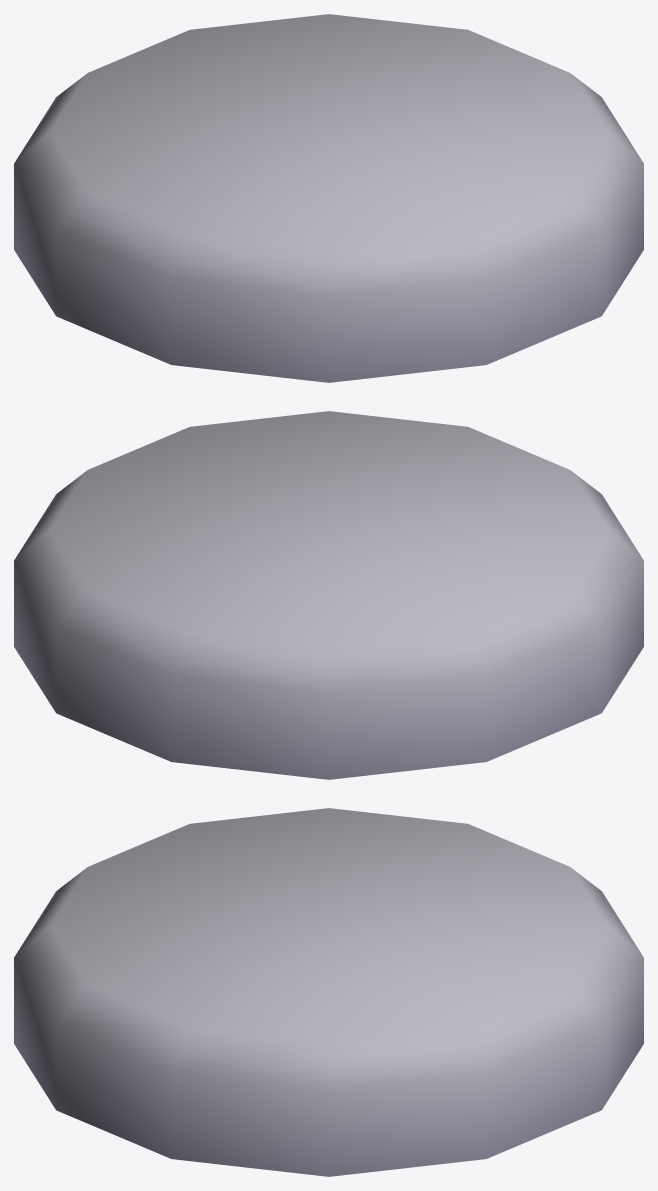
Rendered from (%no-merge) lid 1_0.glb.
The picture shows the model from 3 angles, top to bottom: view 1: azimuth 30°, elevation 25°; view 2: azimuth 150°, elevation 25°; view 3: azimuth 270°, elevation 25°; orthographic projection.
Visible parts, largest first — view 1: (%no-merge) lid 1; view 2: (%no-merge) lid 1; view 3: (%no-merge) lid 1.
Part boxes in pixels (x1,y1,x2,y2): (%no-merge) lid 1: (14, 14, 643, 382); (%no-merge) lid 1: (14, 411, 643, 779); (%no-merge) lid 1: (14, 808, 643, 1176).
Size of the model in its own units: 0.3576 by 0.0739 by 0.3576.
